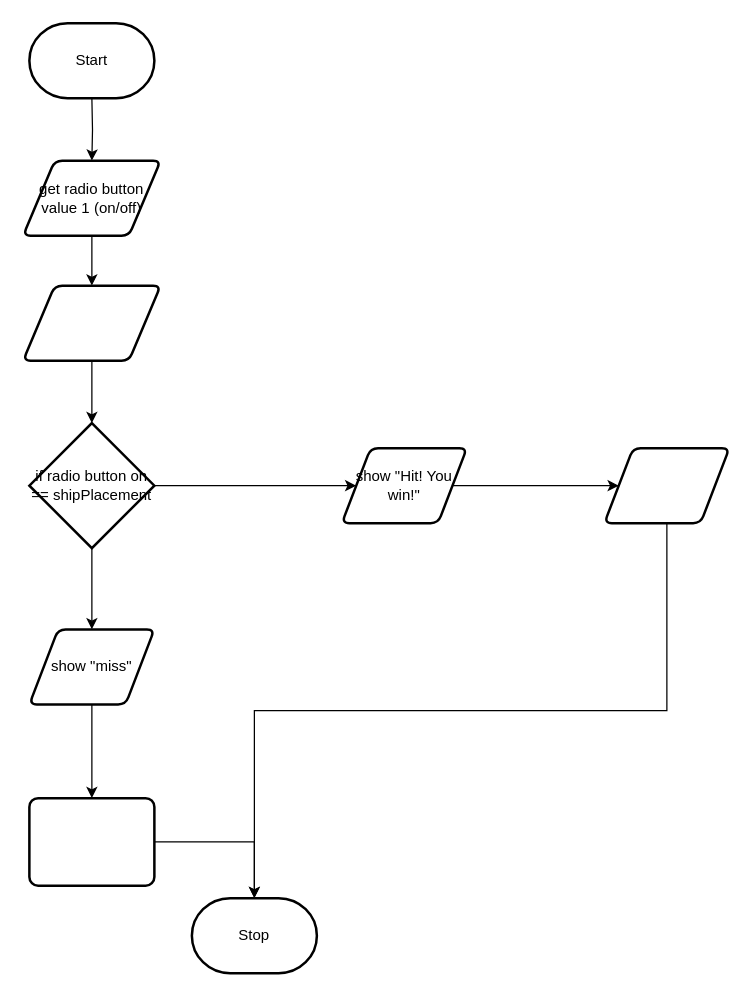
This 751x995 diagram has some shape labels left out. Each missing label, with the centre of its shape:
disable button: (91,841)
get radio button value 2 (on/off): (91,322)
show "Game Over": (666,485)
